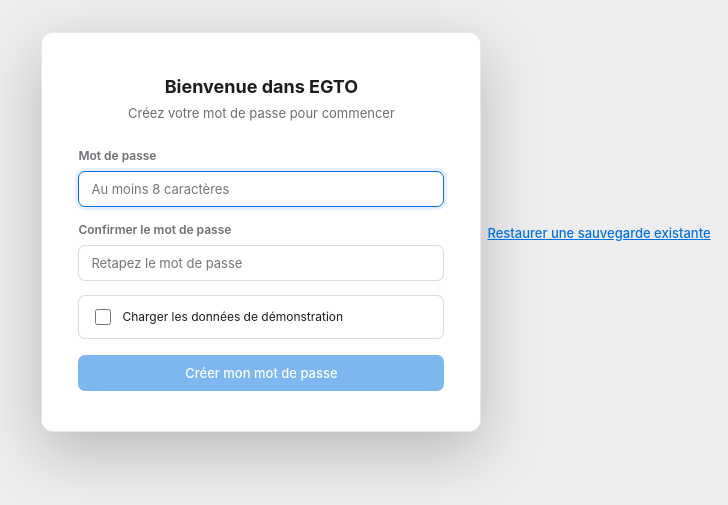
Scenario: Ecran PremierDemarrage › affiche la phrase apres premierDemarrage reussi
The image size is (728, 505).
Expected: the heading "Bienvenue dans EGTO" is shown, [165,76,358,97]
Type "monMotDePasse123" into the password field labelled "Mot de passe" at (261, 189), box [78,171,444,207]
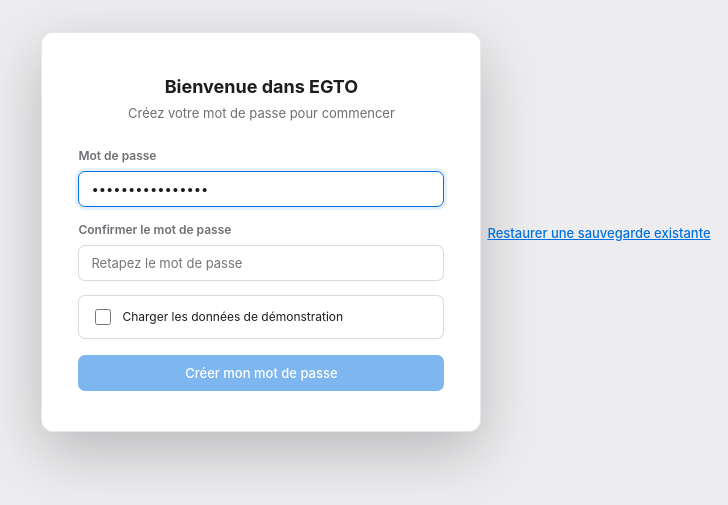
Type "monMotDePasse123" into the password field labelled "Confirmer le mot de passe" at (261, 263), box [78,245,444,281]
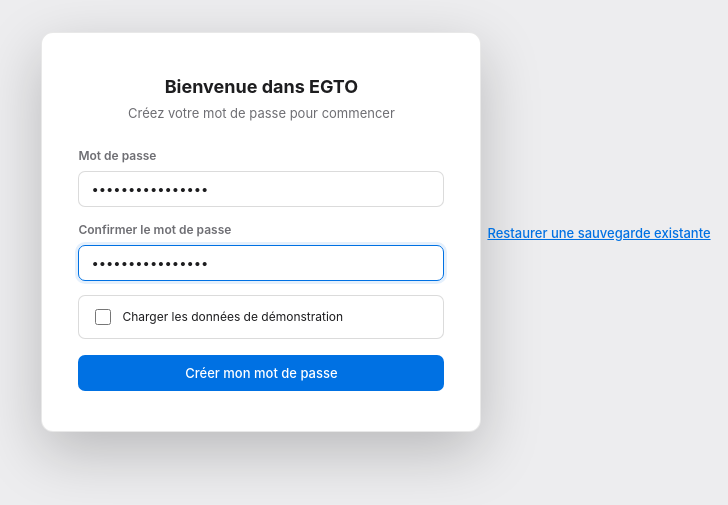
Click the button "Créer mon mot de passe" at (261, 373), box [78,355,444,391]
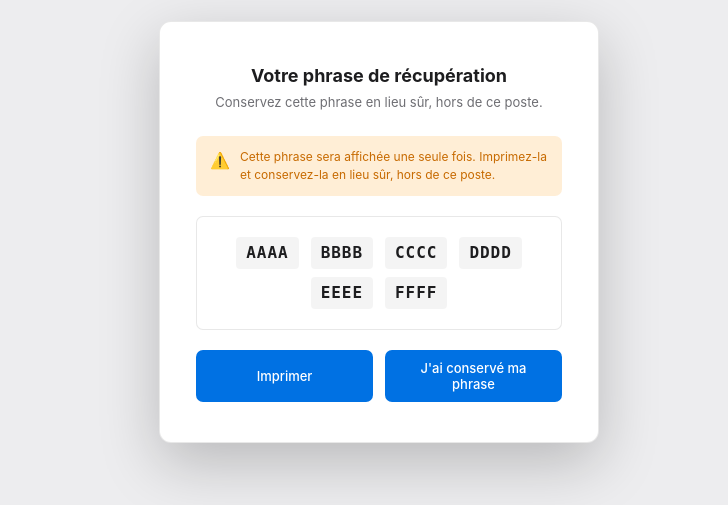
Expected: the heading "Votre phrase de récupération" is shown, [251,65,507,86]
Expected: the text "AAAA" is shown, [236,237,299,269]
Expected: the text "FFFF" is shown, [385,277,447,309]
